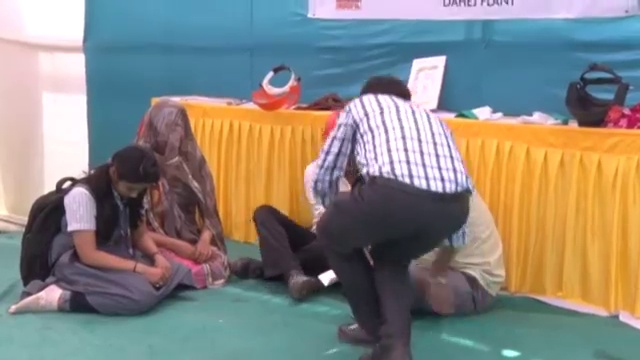helmet_off: (100, 143, 160, 202), (141, 103, 193, 164)
person: (311, 78, 474, 360), (12, 144, 189, 320), (231, 113, 359, 296), (123, 93, 229, 291), (408, 182, 508, 321)
